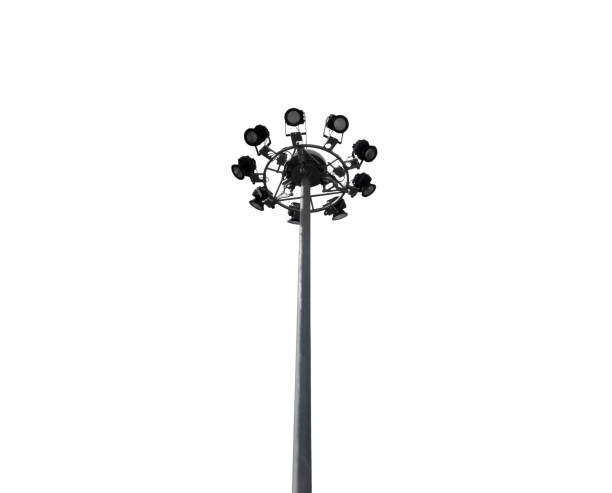light_pole: (291, 184, 313, 493)
